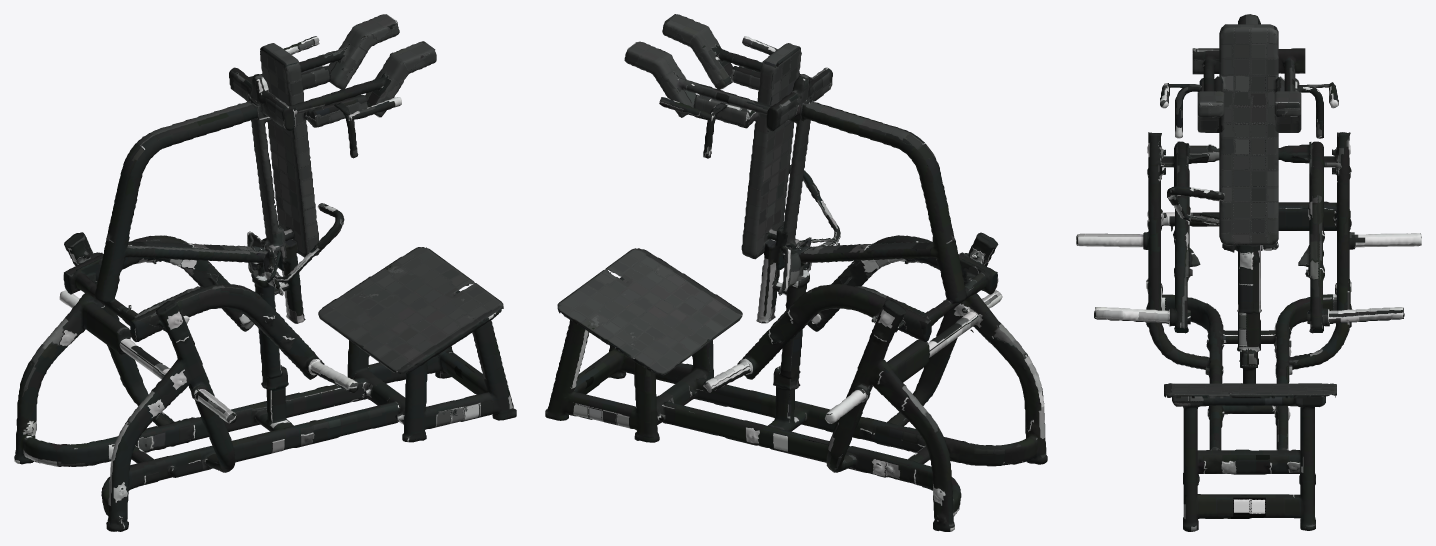
3 renders of one model, left to right at view 1: azimuth 30°, elevation 25°; view 2: azimuth 150°, elevation 25°; view 3: azimuth 270°, elevation 25°, orthographic. The views are drawn at different scales.
Visible parts, largest first — view 1: output; view 2: output; view 3: output.
Part boxes in pixels (box(x1,y1,x2,y2)): output: box(14, 14, 516, 531); output: box(545, 14, 1047, 531); output: box(1076, 14, 1421, 531).
Size of the model in its own units: 2.09 by 1.84 by 1.43.
1 material, 1 textured.
